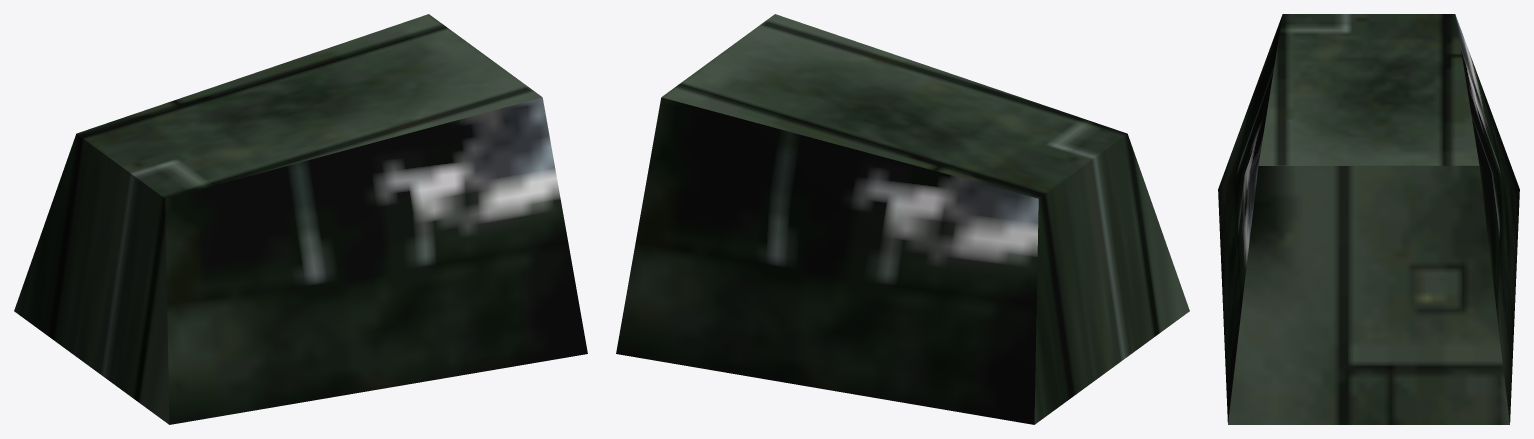
The model's file is USA - Aviation - Chinook Transport Helicopter - Damage State 2 - AVChinook_d2.glb.
3 renders of one model, left to right at view 1: azimuth 30°, elevation 25°; view 2: azimuth 150°, elevation 25°; view 3: azimuth 270°, elevation 25°, orthographic. The views are drawn at different scales.
Visible parts, largest first — view 1: AVCHINOOK_D2; view 2: AVCHINOOK_D2; view 3: AVCHINOOK_D2.
Boxes of the visible parts, x1,y1,x2,y2 form: AVCHINOOK_D2: [14, 14, 587, 424]; AVCHINOOK_D2: [616, 14, 1189, 424]; AVCHINOOK_D2: [1218, 14, 1519, 424].
Size of the model in its own units: 6.7 by 3.81 by 4.26.
1 material, 1 textured.
